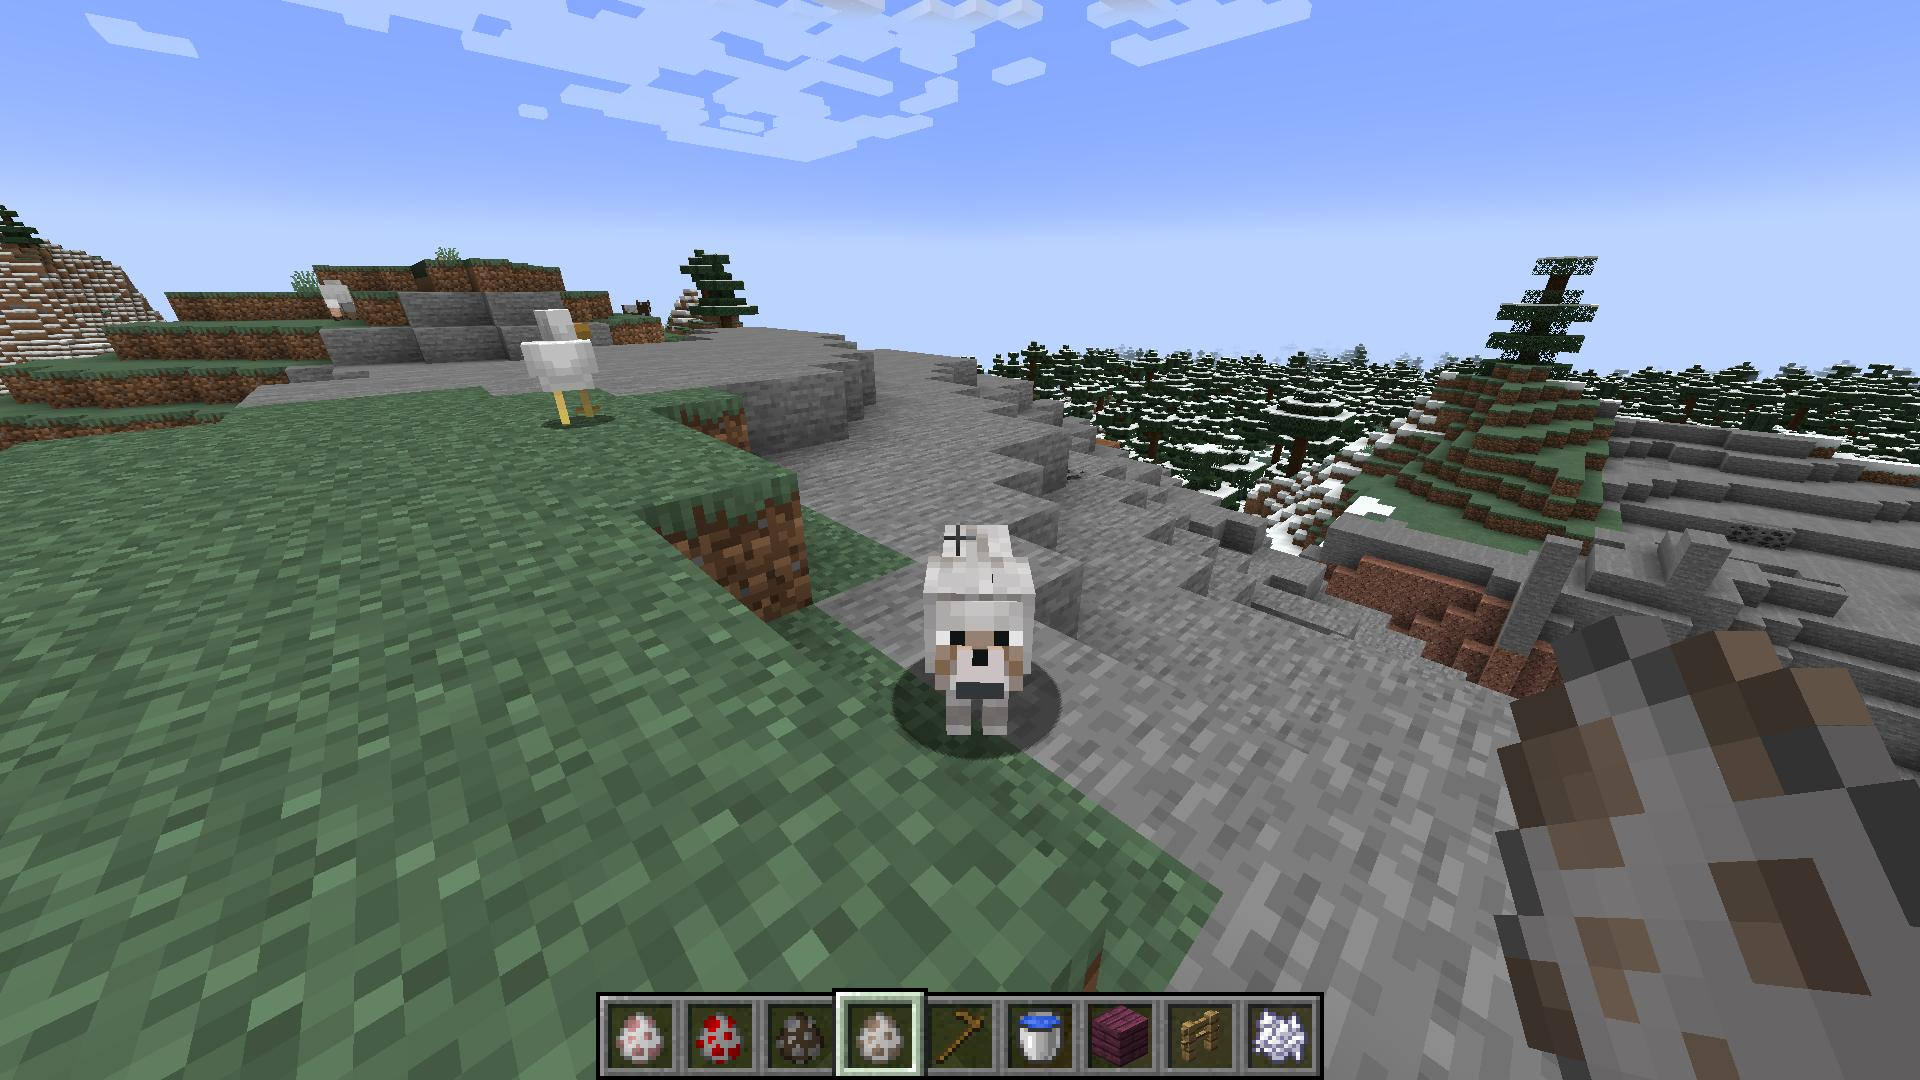chicken: (493, 299, 617, 433)
wolf: (881, 514, 1071, 733)
